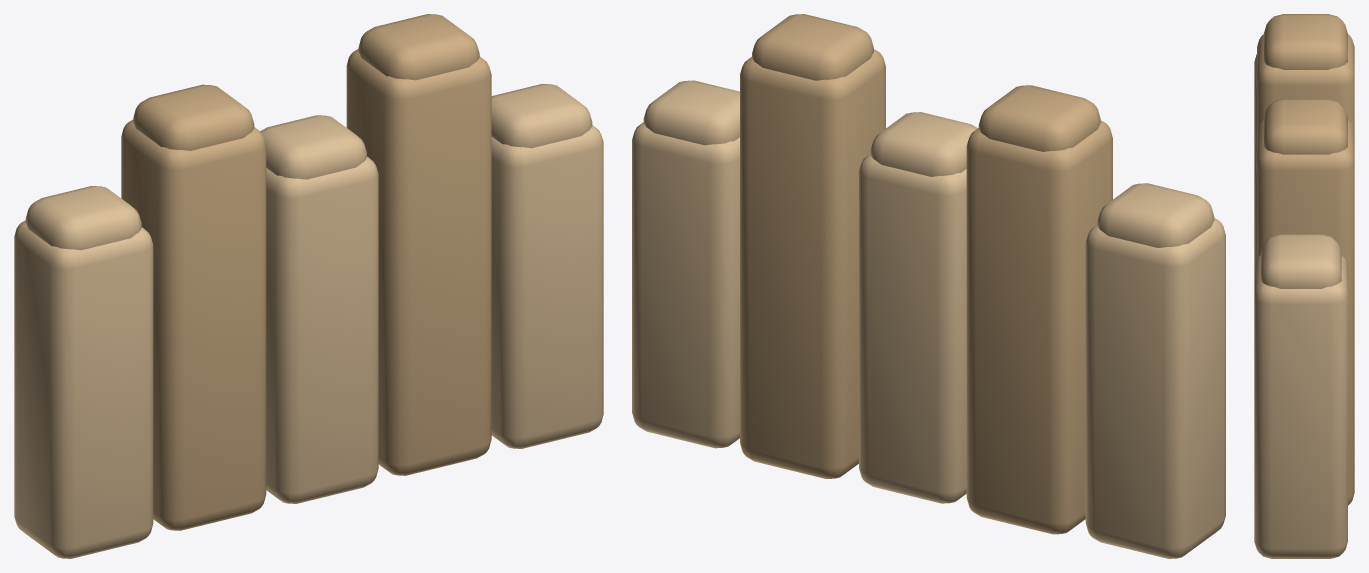
The model's file is log_fence.glb.
3 views of the same model, side by side, from view 1: azimuth 30°, elevation 25°; view 2: azimuth 150°, elevation 25°; view 3: azimuth 270°, elevation 25° (orthographic). The views are drawn at different scales.
Visible parts, largest first — view 1: log_fence; view 2: log_fence; view 3: log_fence.
Part boxes in pixels (<box>): log_fence: <box>14,14,603,558</box>; log_fence: <box>632,14,1225,558</box>; log_fence: <box>1254,14,1354,558</box>.
Bounding box in the file's own units: 1.47 × 1.07 × 0.257.
